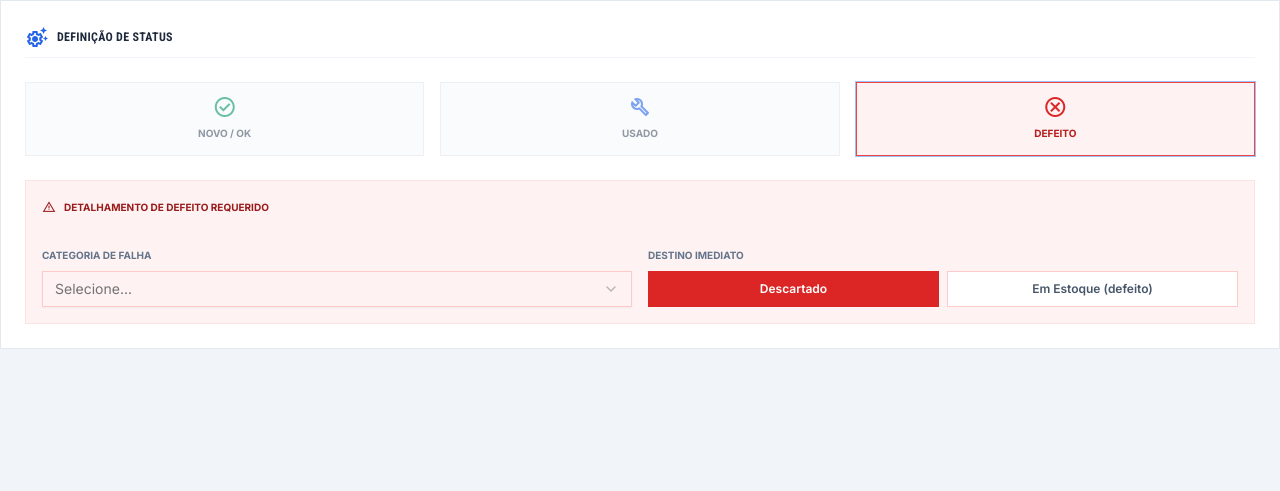
DefinicaoStatusSection › selecionando categoria com motivaTexto=true exibe textarea de motivo; outra não exibe
Expected: the field with placeholder "Descreva o motivo do defeito" is not shown
Click the dropdown at (94,288), box [42, 271, 632, 307]
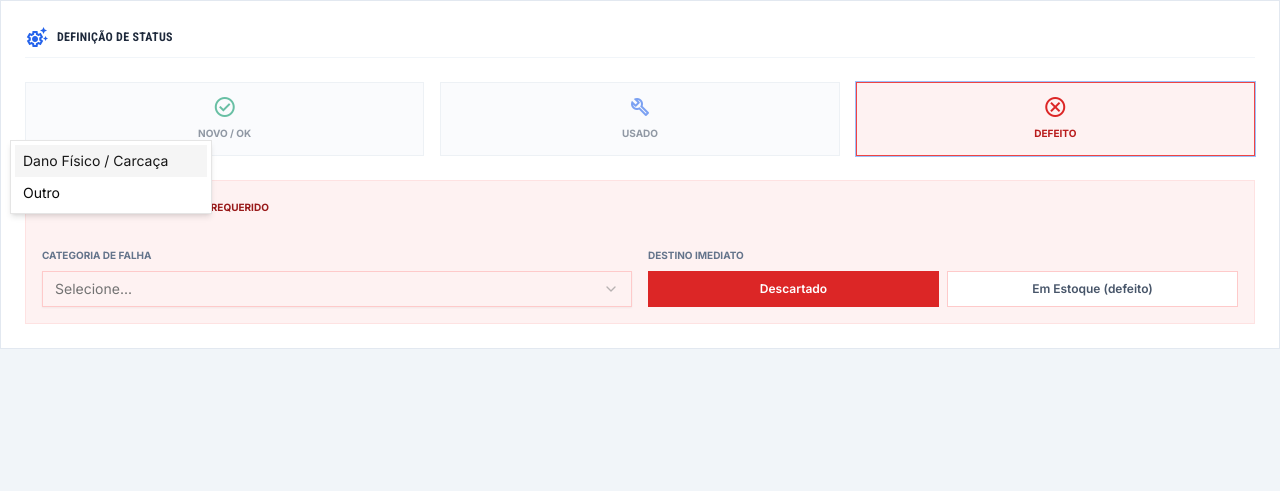
Click the option "Outro" at (42,192), box [23, 184, 60, 201]
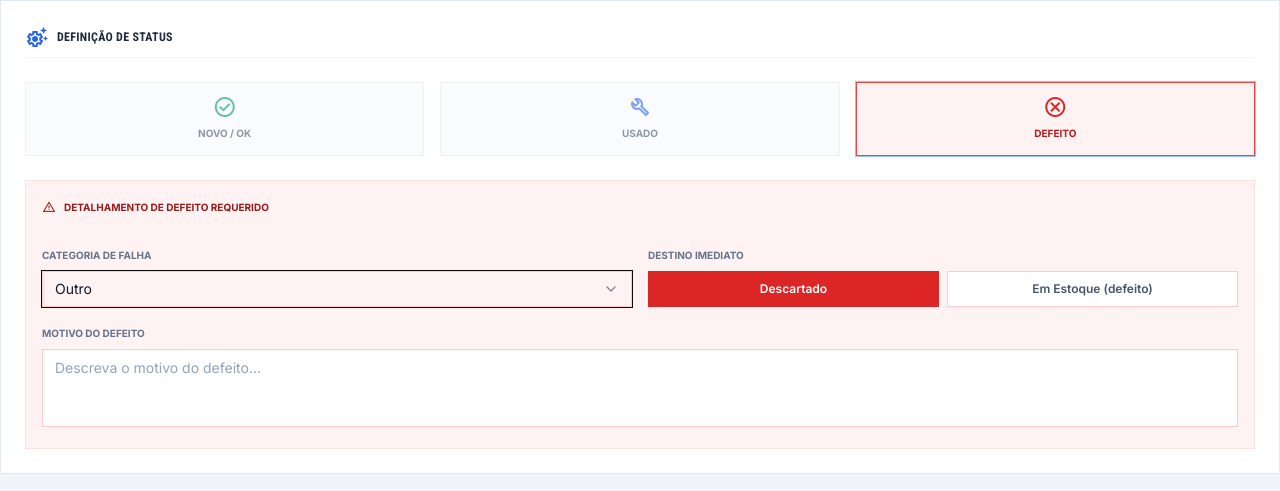
Expected: the text box with placeholder "Descreva o motivo do defeito..." is shown, [42, 349, 1238, 427]
